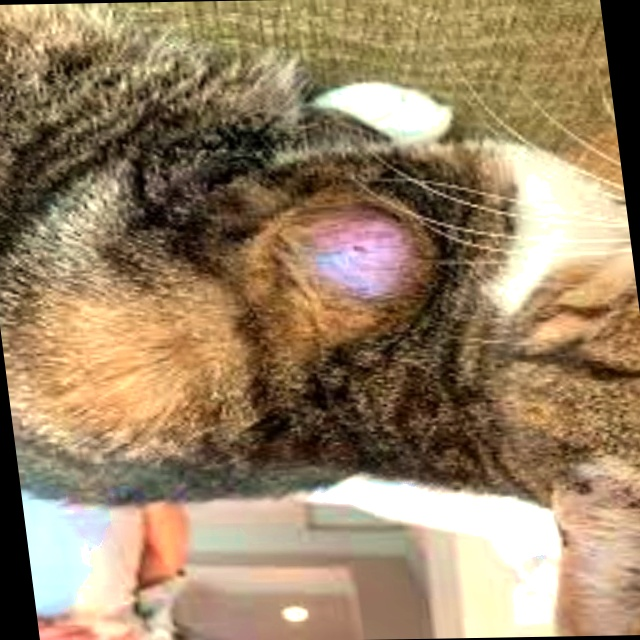lump_and_bump: (296, 210, 426, 299)
